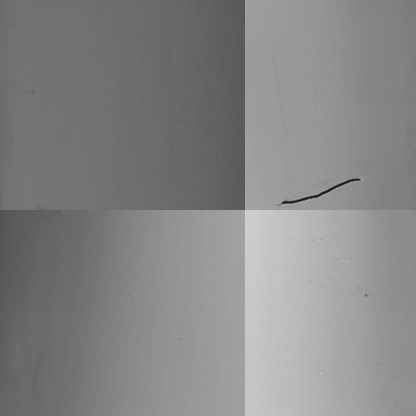fengxi: (273, 168, 365, 209)
